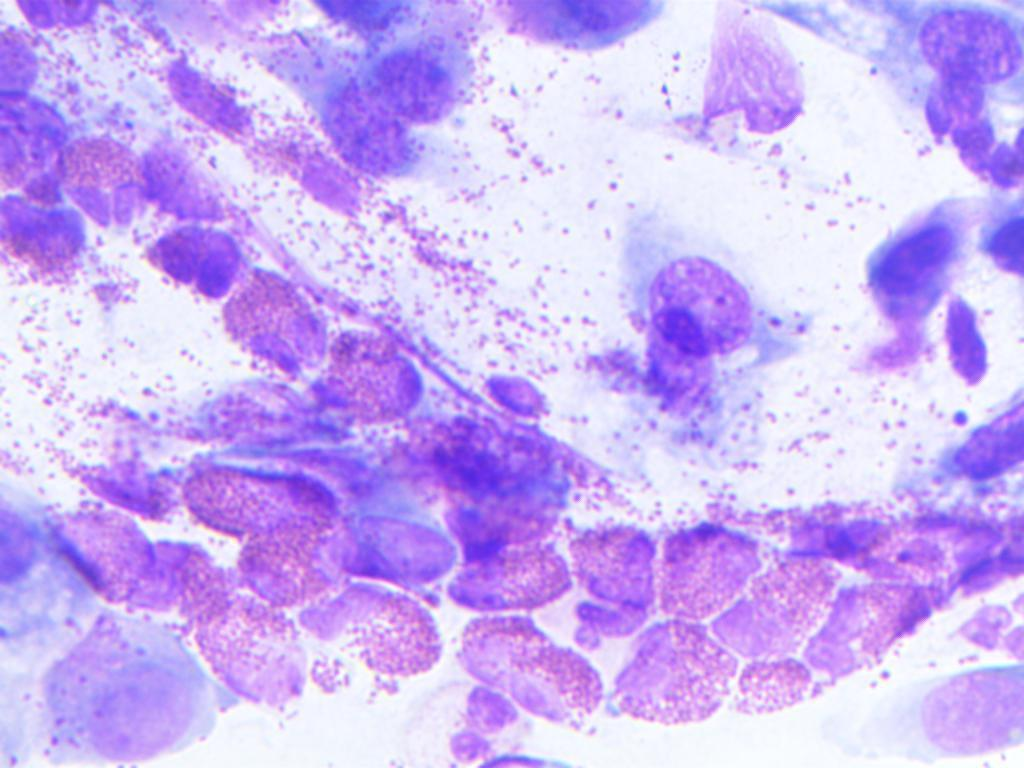artifact: (808, 493, 1024, 586), (690, 0, 800, 156), (147, 41, 258, 144), (927, 398, 1024, 489), (920, 287, 992, 394)
eosinophil: (453, 602, 618, 740), (230, 86, 374, 237), (177, 590, 322, 716), (803, 577, 966, 689), (703, 550, 850, 664), (303, 584, 446, 700), (563, 518, 670, 652), (609, 618, 737, 727), (436, 525, 588, 614), (227, 512, 362, 610), (171, 459, 343, 535), (652, 505, 761, 623), (213, 266, 328, 376), (320, 319, 427, 430), (117, 527, 231, 631), (52, 136, 165, 230), (0, 77, 78, 200), (0, 192, 88, 292), (733, 657, 838, 715), (0, 21, 68, 97)
epithelial: (36, 621, 205, 764), (623, 233, 770, 376), (824, 189, 969, 322), (322, 47, 465, 177), (328, 500, 468, 592), (904, 5, 1024, 105), (913, 662, 1024, 760)
goblet_cell: (6, 473, 161, 620)
lymphocyte: (129, 226, 244, 304)
neutrophil: (952, 578, 1024, 671)
